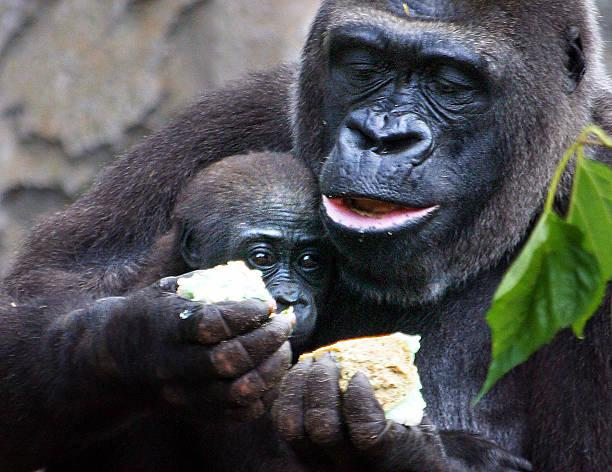gorille_Autres: (33, 0, 612, 472)
